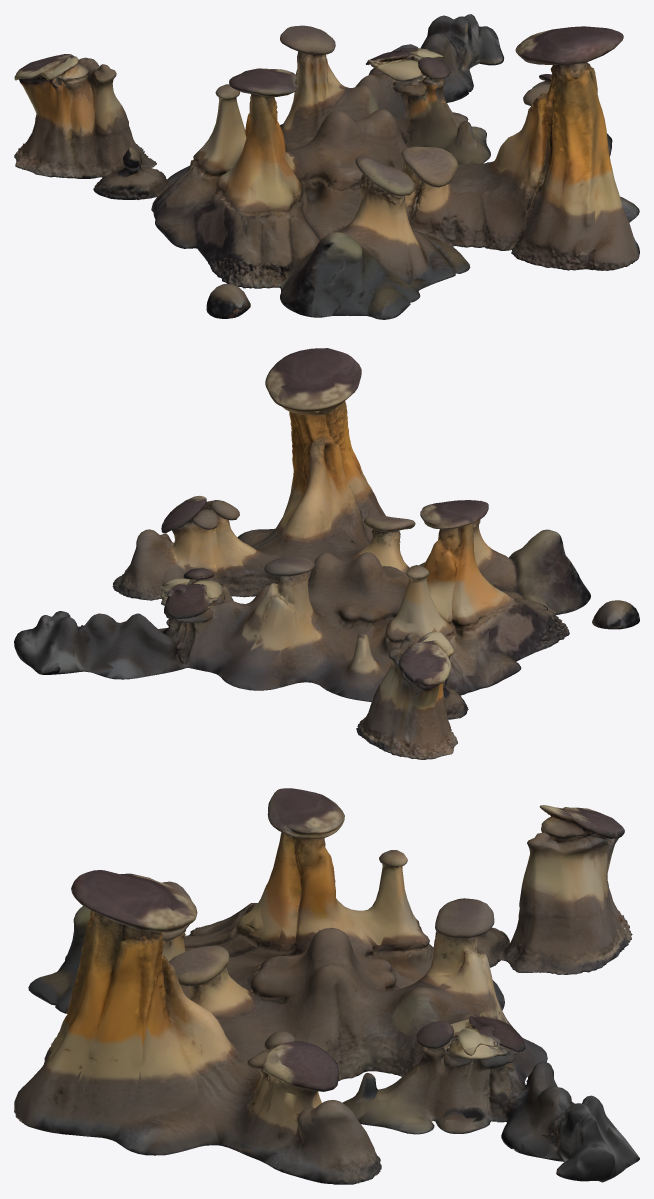
The model's file is peri_bacalari.glb.
The picture shows the model from 3 angles, top to bottom: view 1: azimuth 30°, elevation 25°; view 2: azimuth 150°, elevation 25°; view 3: azimuth 270°, elevation 25°; orthographic projection. The views are drawn at different scales.
Visible parts, largest first — view 1: Meshy_AI_peri_bacaları_0225172639_texture; view 2: Meshy_AI_peri_bacaları_0225172639_texture; view 3: Meshy_AI_peri_bacaları_0225172639_texture.
Part boxes in pixels (box(x1,y1,x2,y2)): Meshy_AI_peri_bacaları_0225172639_texture: box(14, 14, 639, 319); Meshy_AI_peri_bacaları_0225172639_texture: box(14, 348, 639, 759); Meshy_AI_peri_bacaları_0225172639_texture: box(14, 788, 639, 1184).
Bounding box in the file's own units: 2 × 0.8052 × 1.94.
Materials: 1 (1 with a texture image).
